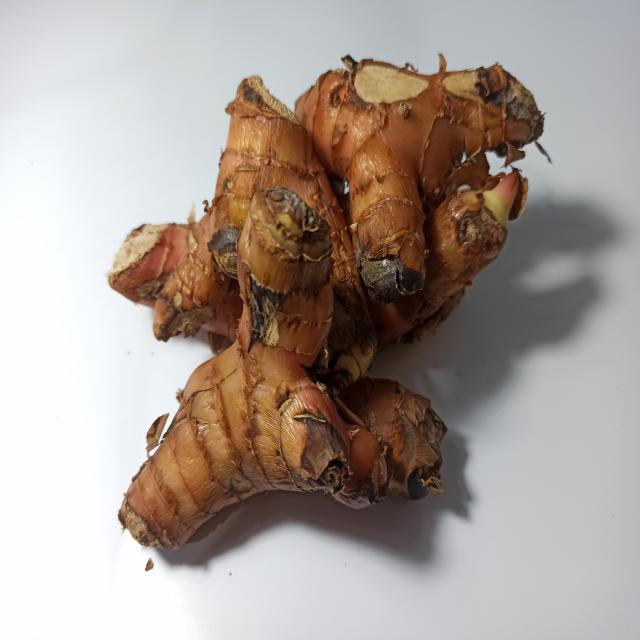ginger: (112, 58, 530, 564)
